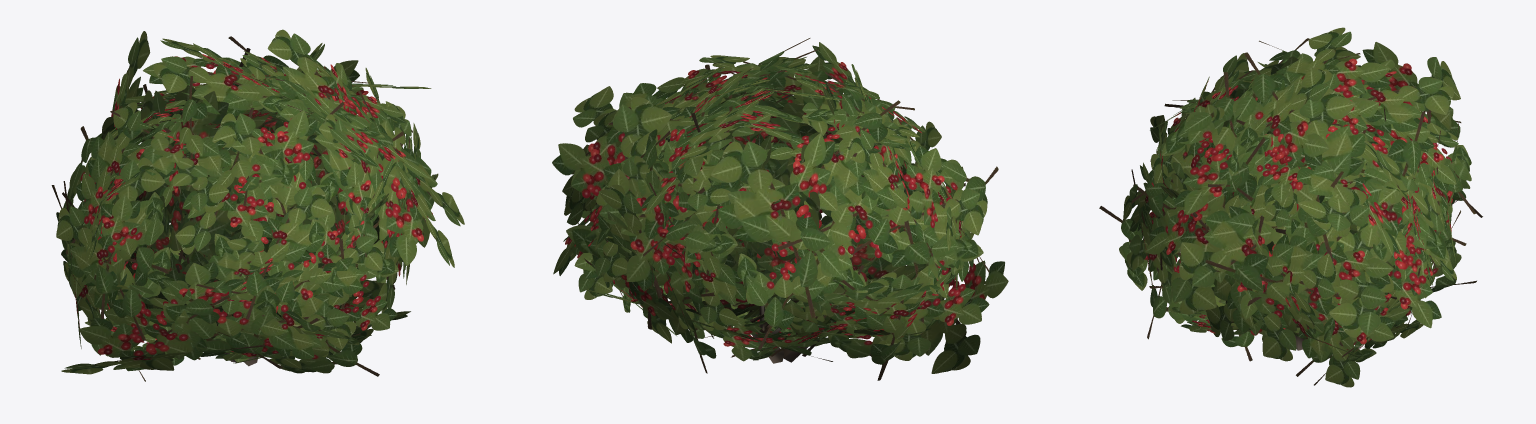
File: bush_lod1.glb
3 renders of one model, left to right at view 1: azimuth 30°, elevation 25°; view 2: azimuth 150°, elevation 25°; view 3: azimuth 270°, elevation 25°, orthographic. The views are drawn at different scales.
Visible parts, largest first — view 1: bush_lod1; view 2: bush_lod1; view 3: bush_lod1.
Part boxes in pixels (x1,y1,x2,y2): bush_lod1: (51,29,464,381); bush_lod1: (552,38,1008,380); bush_lod1: (1099,27,1482,387).
Bounding box in the file's own units: 1.7 × 1.26 × 1.57.
2 materials, 2 textured.
